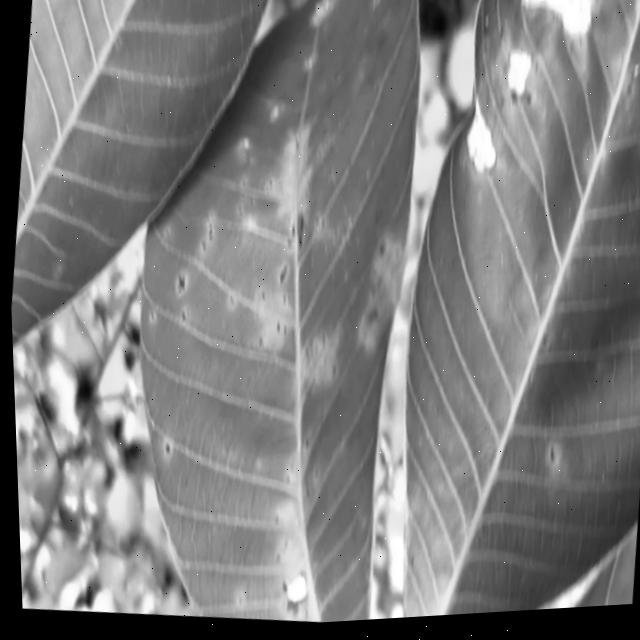Leaf-Blight: (515, 0, 595, 52), (459, 99, 503, 181), (502, 52, 534, 106), (280, 577, 303, 608)
